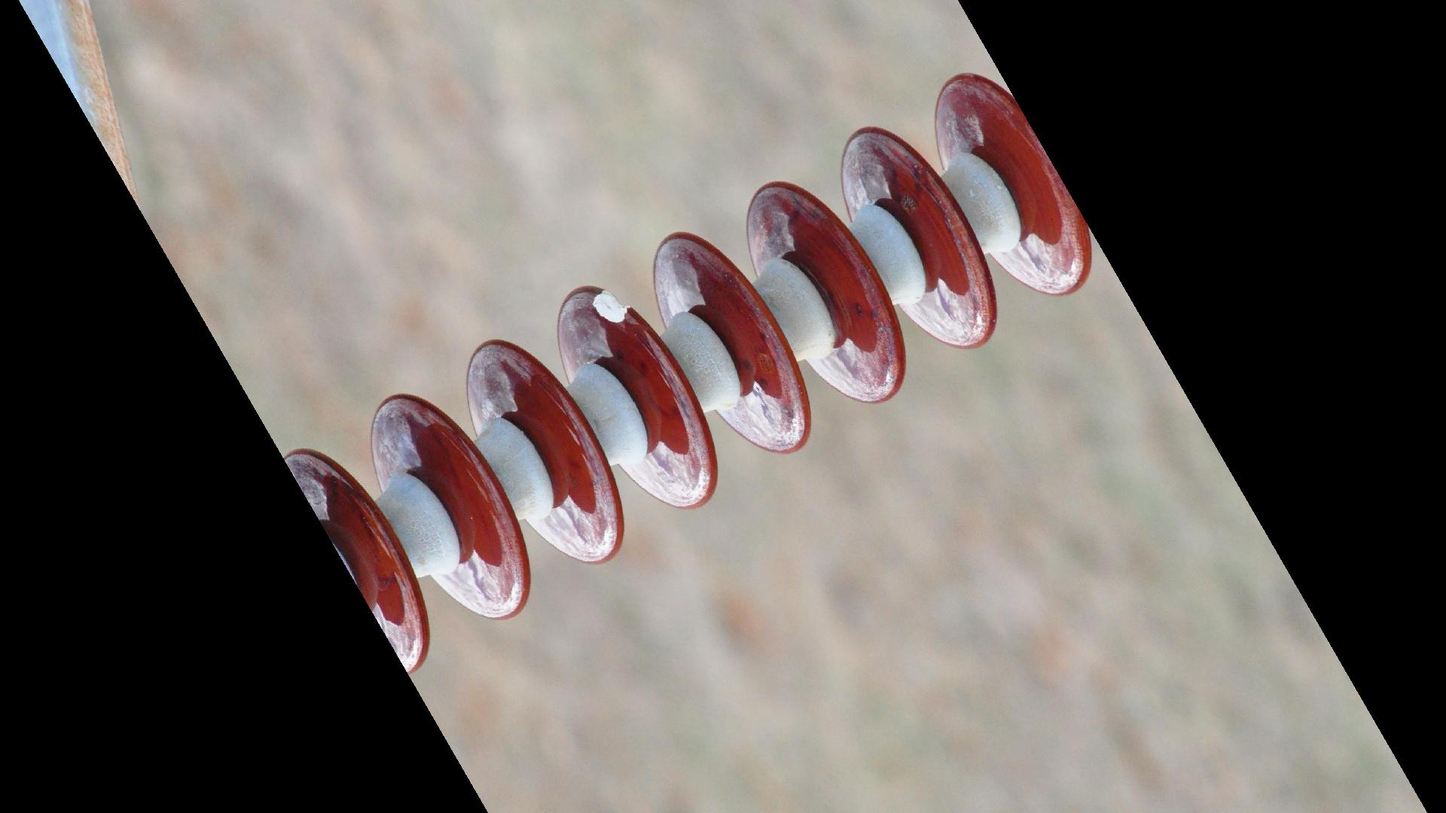insulator: (275, 69, 1099, 679)
insulator_breakage: (575, 277, 648, 342)
